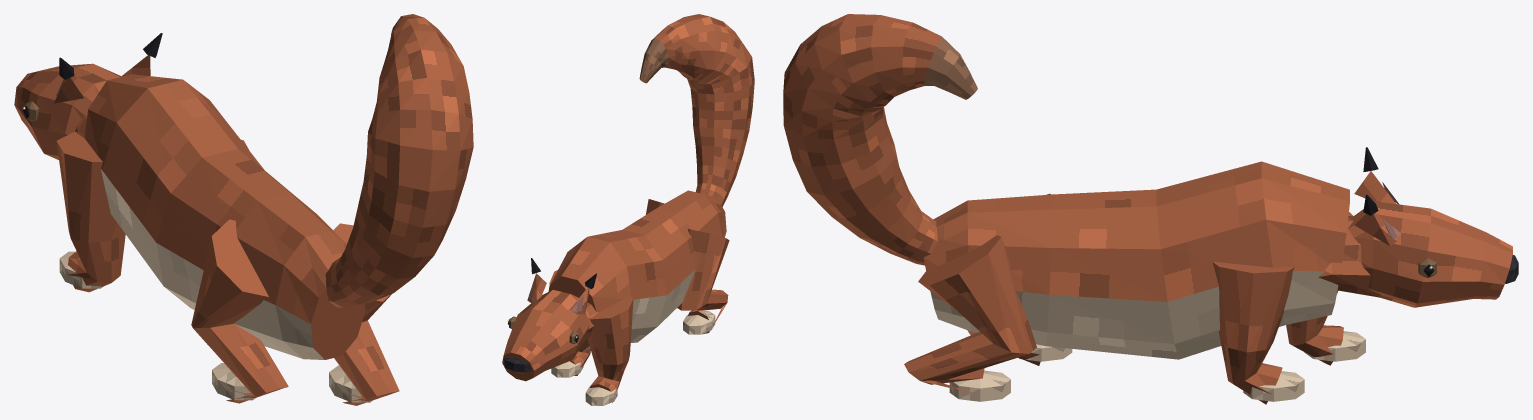
The model's file is mon_squirrel_red.glb.
3 views of the same model, side by side, from view 1: azimuth 30°, elevation 25°; view 2: azimuth 150°, elevation 25°; view 3: azimuth 270°, elevation 25° (orthographic). The views are drawn at different scales.
Parts seen in each view (by area): view 1: closed_body; view 2: closed_body; view 3: closed_body.
Boxes of the visible parts, x1,y1,x2,y2 form: closed_body: [14, 14, 473, 405]; closed_body: [502, 14, 754, 405]; closed_body: [783, 14, 1518, 404].
Bounding box in the file's own units: 0.1014 × 0.2396 × 0.4049.
Materials: 1 (1 with a texture image).
